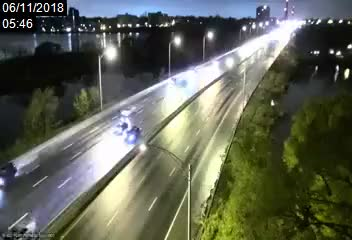personal_car: (125, 126, 141, 144)
